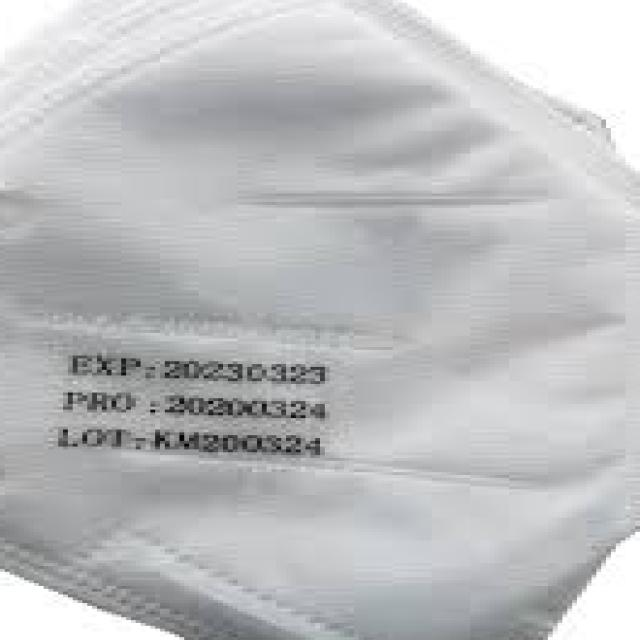organic: (0, 26, 617, 615)
